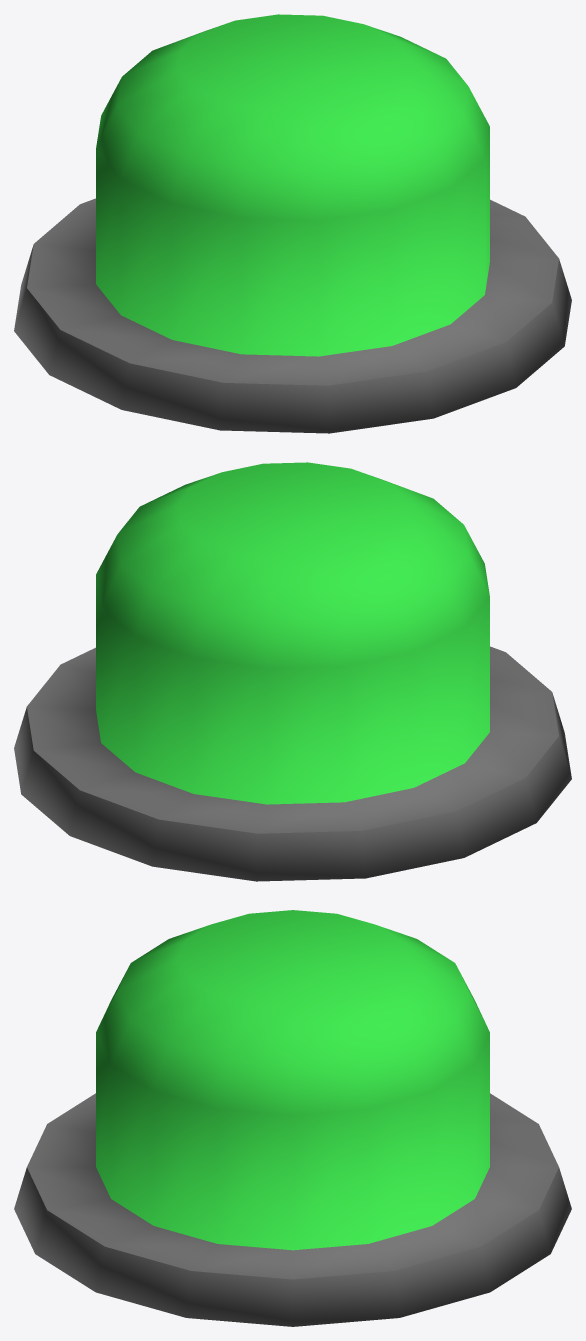
File: headAlarmLightGreen.fbx
3 renders of one model, top to bottom at view 1: azimuth 30°, elevation 25°; view 2: azimuth 150°, elevation 25°; view 3: azimuth 270°, elevation 25°, orthographic.
Visible parts, largest first — view 1: Head - Alarm Light Green; view 2: Head - Alarm Light Green; view 3: Head - Alarm Light Green.
Boxes of the visible parts, left/top/right/bottom form: Head - Alarm Light Green: left=14, top=14, right=571, bottom=433; Head - Alarm Light Green: left=14, top=462, right=571, bottom=881; Head - Alarm Light Green: left=14, top=910, right=571, bottom=1326.
Size of the model in its own units: 23.86 by 23.86 by 11.82.
